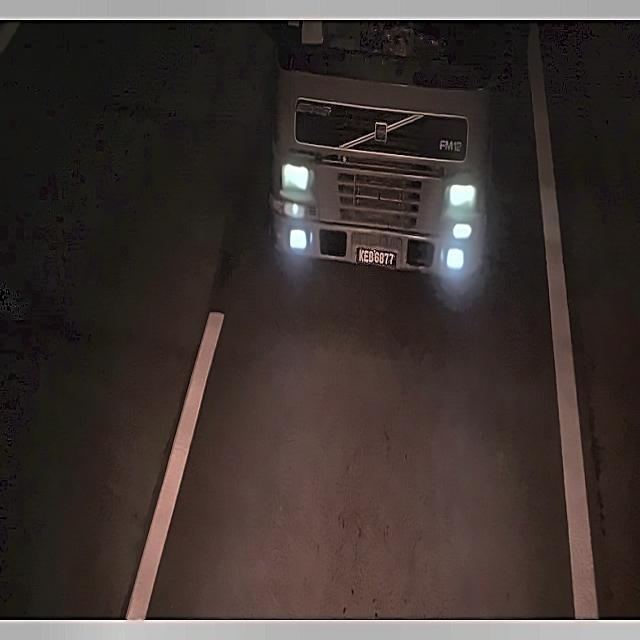car: (351, 243, 398, 272)
